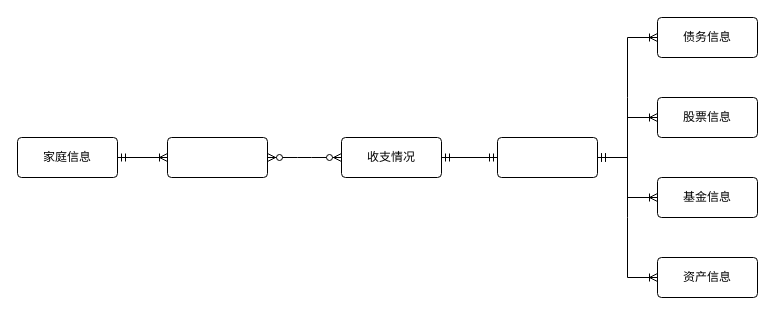
Some shapes in this 775 by 315 pixel diagram are drawn without their labels. Here are the shapes that lost their labels. From the top down, the box of each, then its label:
(166, 136, 268, 178): 用户信息
(496, 136, 598, 178): 收支信息
